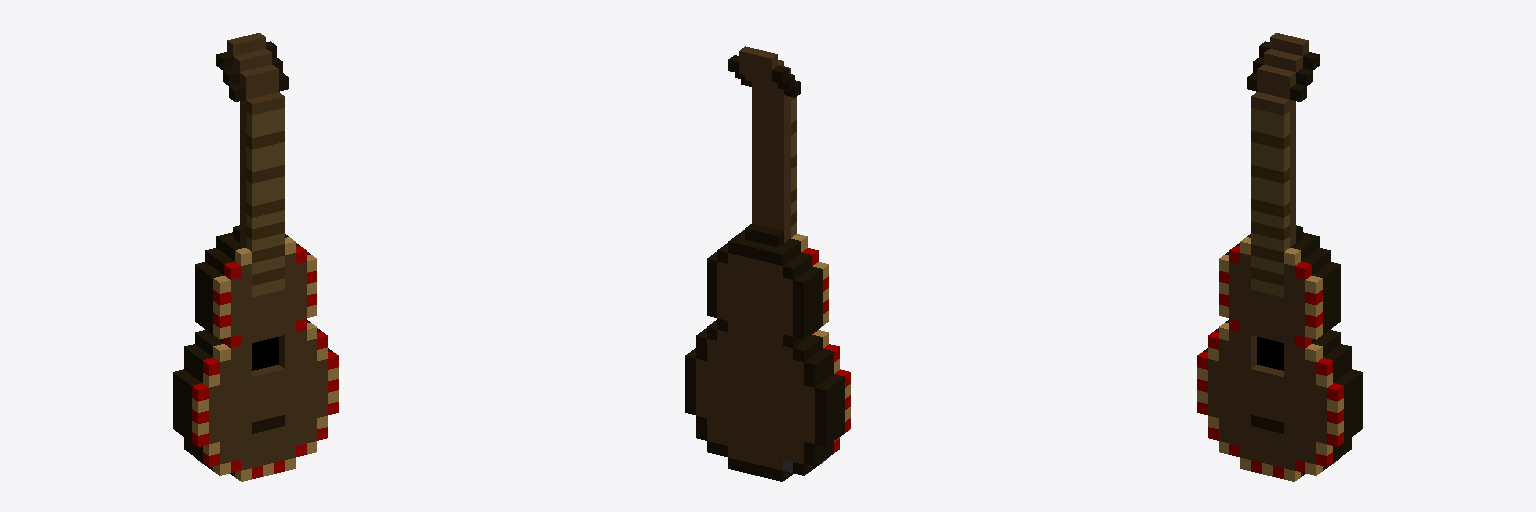
The picture shows the model from 3 angles: view 1: azimuth 30°, elevation 25°; view 2: azimuth 150°, elevation 25°; view 3: azimuth 330°, elevation 25°; orthographic projection.
Visible parts, largest first — view 1: object 1; view 2: object 1; view 3: object 1.
Part boxes in pixels (x1,y1,x2,y2): object 1: (173, 33, 338, 481); object 1: (685, 46, 850, 481); object 1: (1197, 33, 1362, 481).
Size of the model in its own units: 1.3 by 3.7 by 0.4.
Materials: 1 (1 with a texture image).